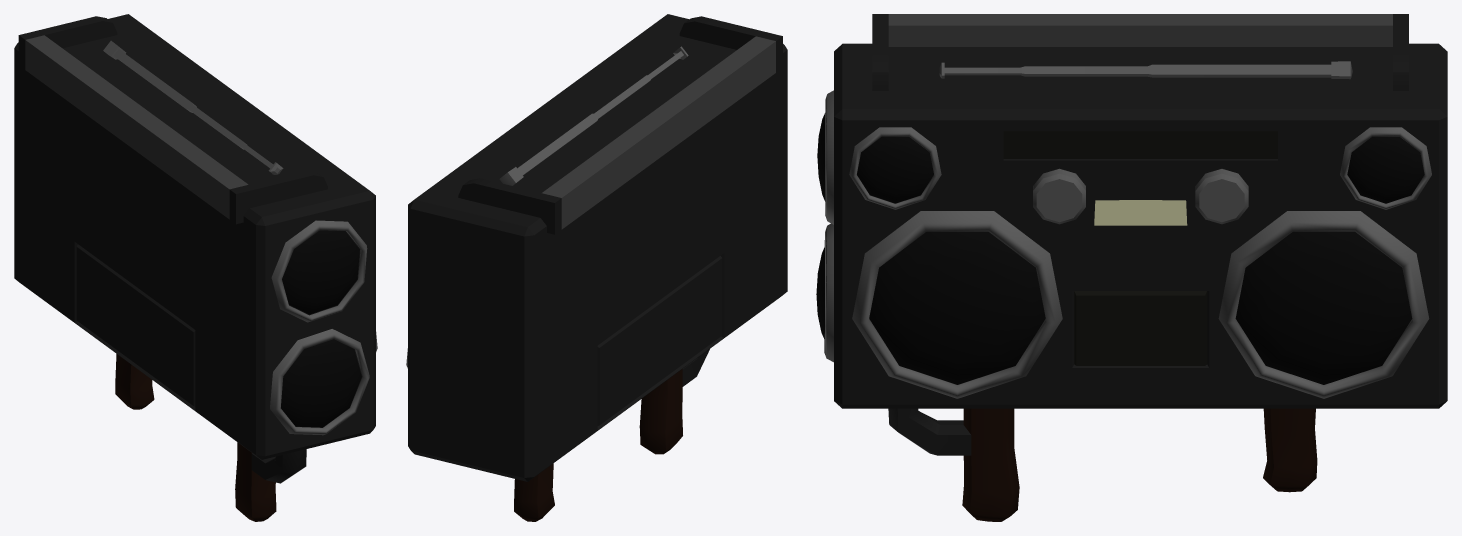
Rendered from boomblaster.fbx.
The picture shows the model from 3 angles, left to right: view 1: azimuth 30°, elevation 25°; view 2: azimuth 150°, elevation 25°; view 3: azimuth 270°, elevation 25°; orthographic projection. The views are drawn at different scales.
Visible parts, largest first — view 1: pSphere5; view 2: pSphere5; view 3: pSphere5.
Part boxes in pixels (x1,y1,x2,y2): pSphere5: [14, 14, 377, 521]; pSphere5: [406, 14, 787, 521]; pSphere5: [816, 14, 1447, 521].
Size of the model in its own units: 6.9 by 16.91 by 20.85.
